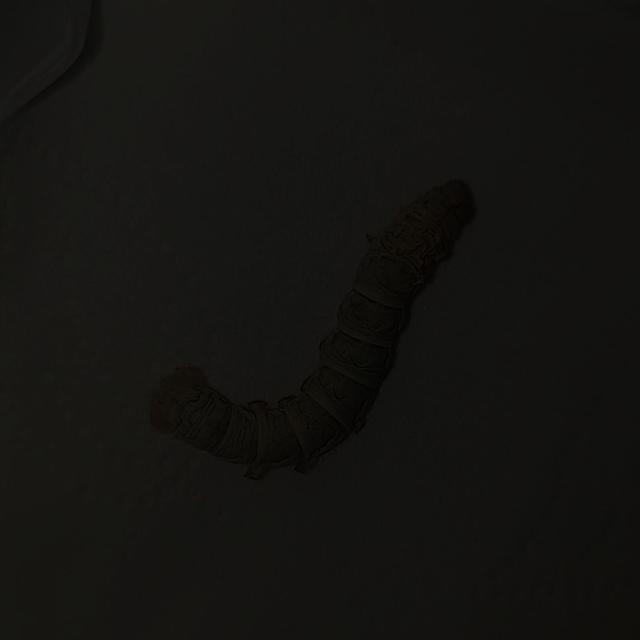Healthy: (117, 156, 522, 534)
